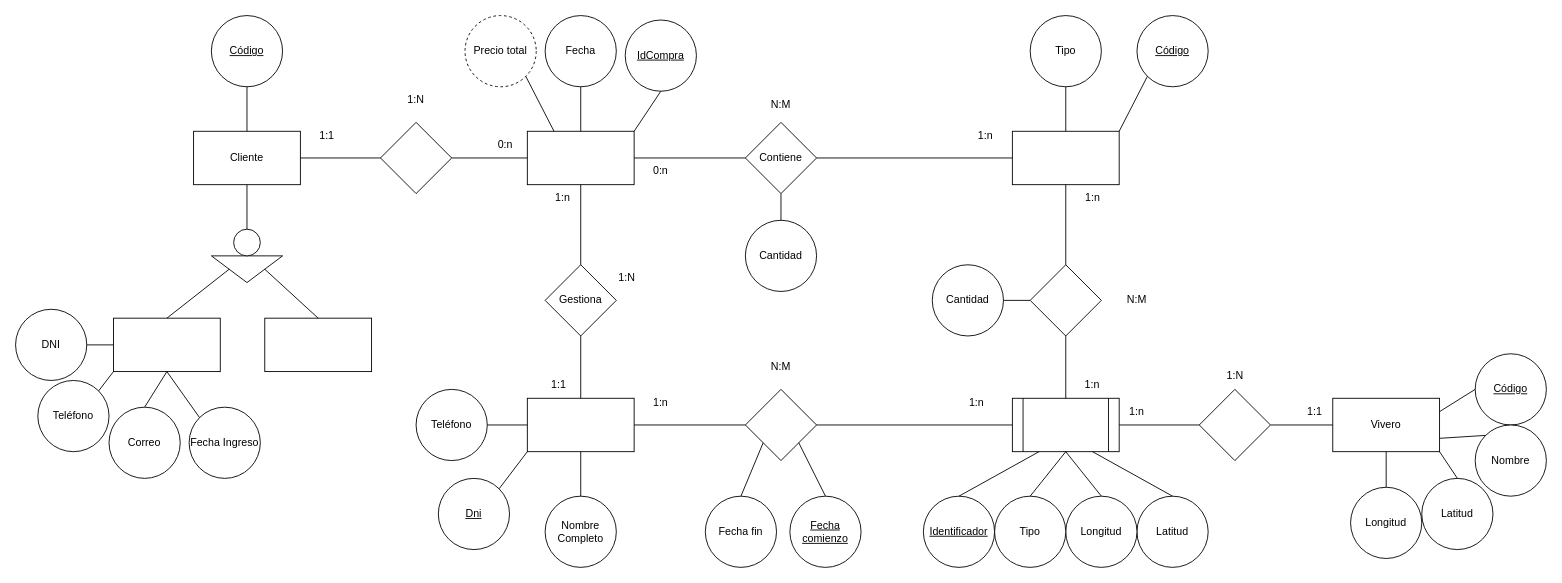
Image size: 1562x583. Some labels were removed from this diagram. Each missing label, with the centre of its shape:
ClienteNoIdentificado: the point at 318,344
ClienteTajinastePlus: the point at 166,344
Compra: the point at 580,157
Empleado: the point at 580,424
Está en: the point at 1065,300
Producto: the point at 1065,157
Realiza: the point at 416,157
Tiene: the point at 1234,424
Trabaja: the point at 780,424
Zona: the point at 1065,424
